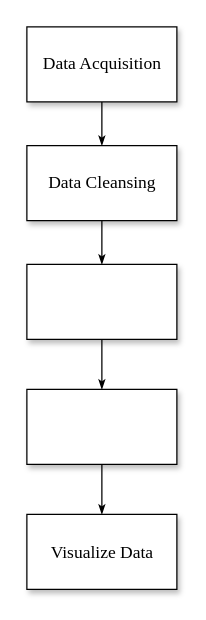
This 206x620 diagram has some shape labels left out. The shapes that lost their labels are listed below. From the top down, each one's centre as x and y in pixels, then its label:
At point 102,303: "Make Data Training".
At point 102,428: "Predict Data".
